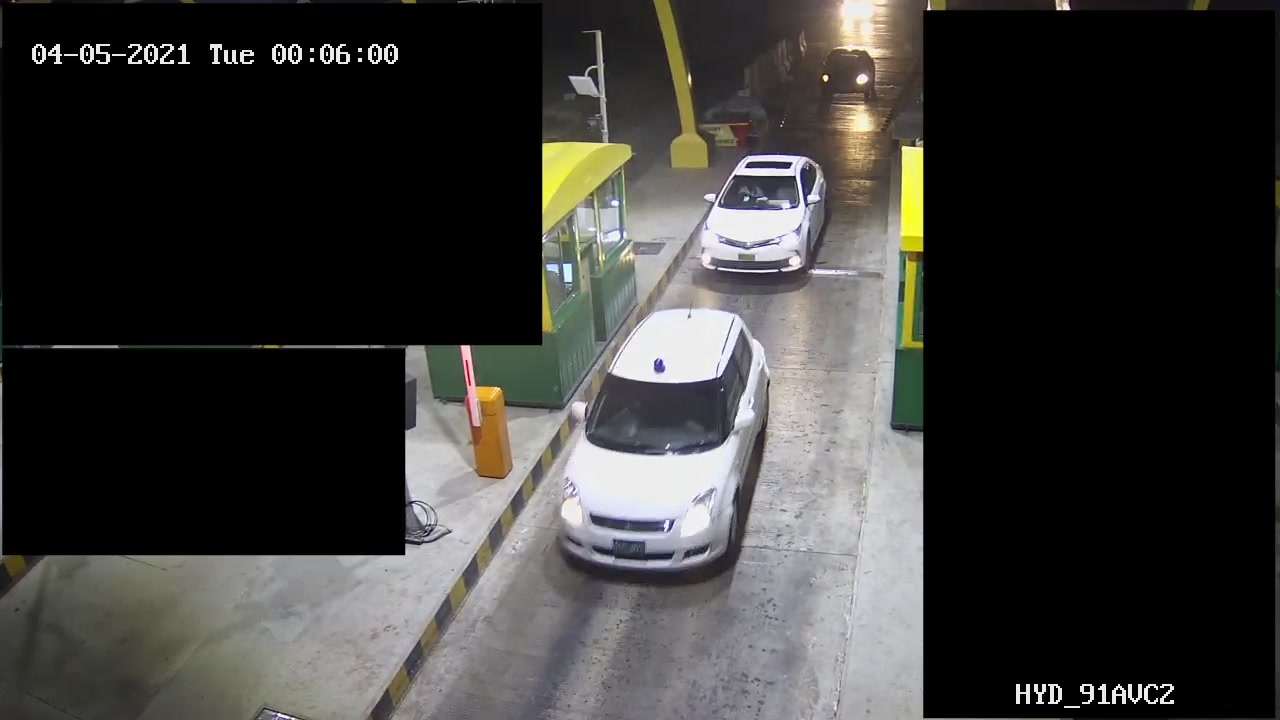F1: (546, 304, 777, 587), (682, 151, 845, 284)
